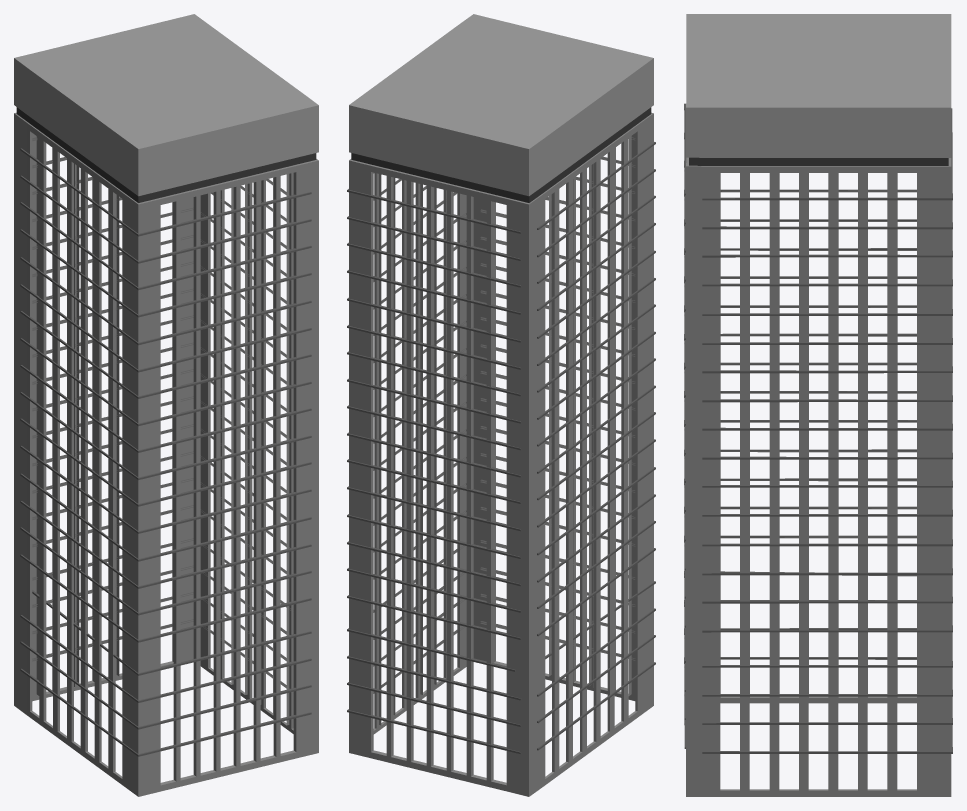
File: building_A.FBX
3 renders of one model, left to right at view 1: azimuth 30°, elevation 25°; view 2: azimuth 150°, elevation 25°; view 3: azimuth 270°, elevation 25°, orthographic. The views are drawn at different scales.
Visible parts, largest first — view 1: factory_building_A; view 2: factory_building_A; view 3: factory_building_A.
Part boxes in pixels (<box>): factory_building_A: <box>14,14,318,796</box>; factory_building_A: <box>347,14,655,796</box>; factory_building_A: <box>684,14,952,796</box>.
Bounding box in the file's own units: 737 × 2490 × 880.
